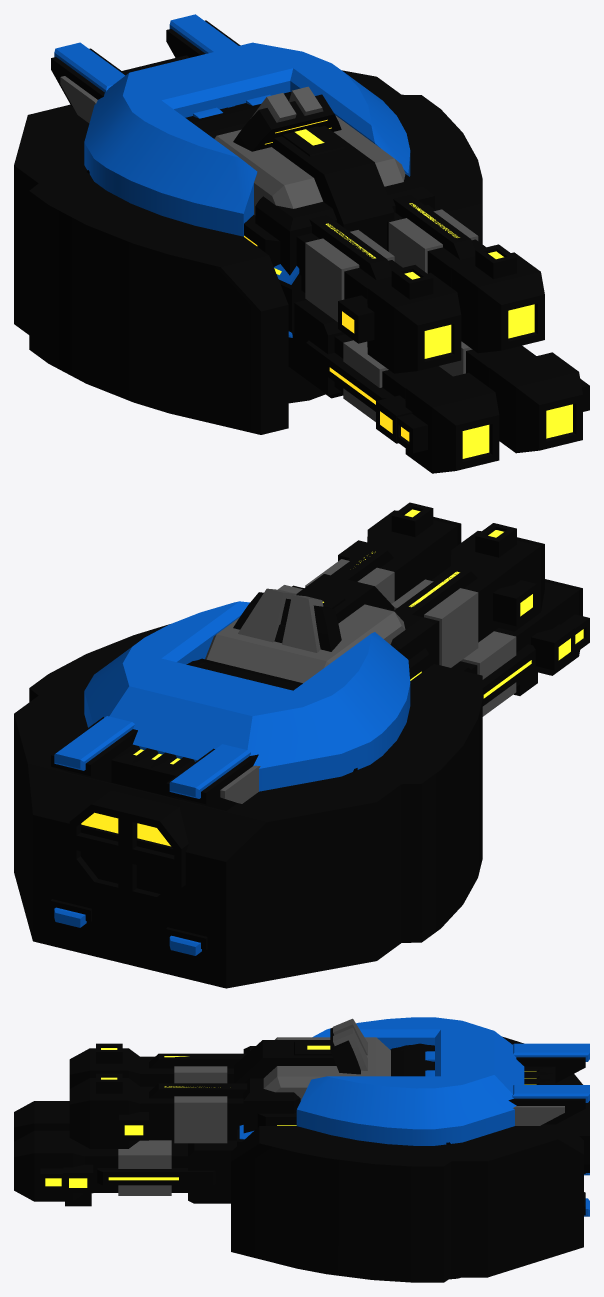
Rendered from 01_ship_heavy_valantar.glb.
3 views of the same model, one above another, from view 1: azimuth 30°, elevation 25°; view 2: azimuth 150°, elevation 25°; view 3: azimuth 270°, elevation 25° (orthographic). The views are drawn at different scales.
Parts seen in each view (by area): view 1: 01_ship_heavy_valantar_turret_body, 01_turret_regor_barrel, 01_ship_heavy_valantar_turret_barrel, 01_ship_heavy_valantar; view 2: 01_ship_heavy_valantar_turret_body, 01_ship_heavy_valantar_turret_barrel, 01_ship_heavy_valantar, 01_turret_regor_barrel; view 3: 01_ship_heavy_valantar_turret_body, 01_ship_heavy_valantar_turret_barrel, 01_turret_regor_barrel, 01_ship_heavy_valantar.
Boxes of the visible parts, <box> form: 01_ship_heavy_valantar_turret_body: <box>14,42,482,434</box>; 01_turret_regor_barrel: <box>214,92,589,473</box>; 01_ship_heavy_valantar_turret_barrel: <box>187,96,578,473</box>; 01_ship_heavy_valantar: <box>51,14,341,337</box>; 01_ship_heavy_valantar_turret_body: <box>14,601,482,988</box>; 01_ship_heavy_valantar_turret_barrel: <box>186,510,578,712</box>; 01_ship_heavy_valantar: <box>51,588,357,955</box>; 01_turret_regor_barrel: <box>188,502,589,716</box>; 01_ship_heavy_valantar_turret_body: <box>231,1017,583,1282</box>; 01_ship_heavy_valantar_turret_barrel: <box>34,1039,434,1203</box>; 01_turret_regor_barrel: <box>14,1037,434,1206</box>; 01_ship_heavy_valantar: <box>237,1018,589,1216</box>.
Bounding box in the file's own units: 0.9387 × 0.6692 × 1.63.
